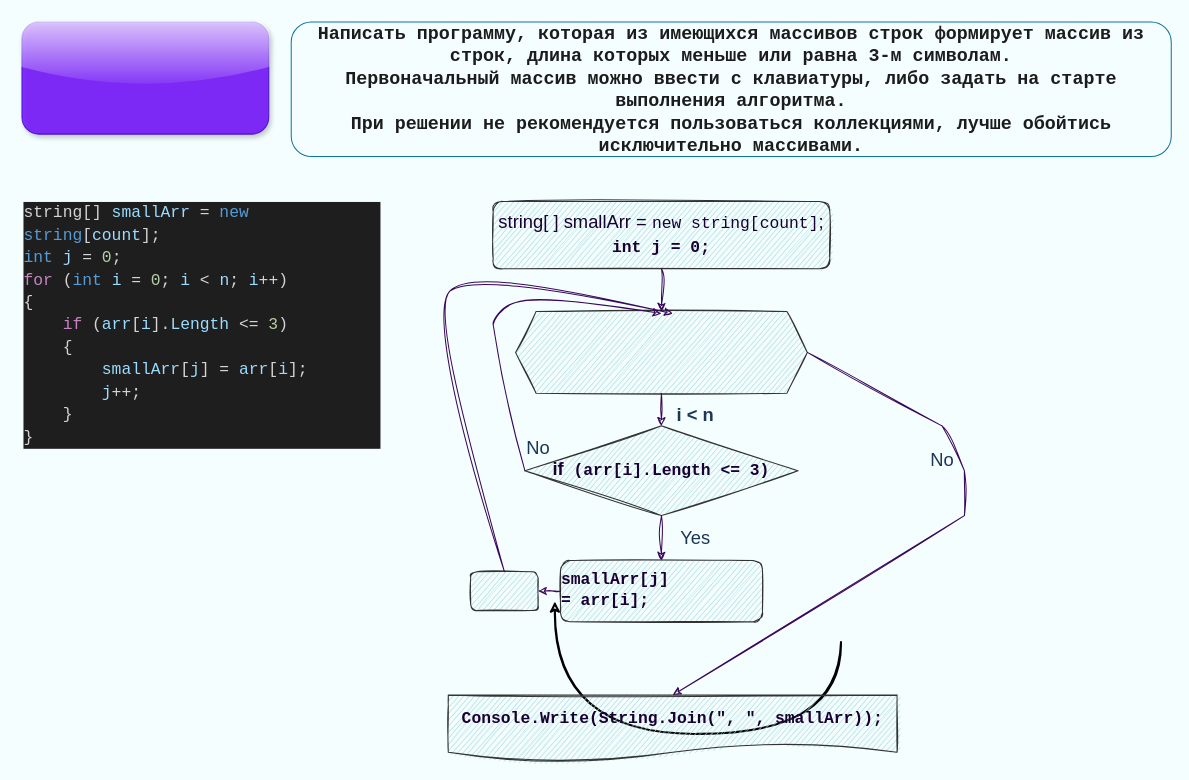
The diagram is 1189 pixels wide and 780 high, and some of its shapes have lost their labels. The shapes that lost their labels are listed below. From the top down, each one's centre as x and y in pixels, then its label:
At (x=146, y=79): "Итоги блока. Выбор специализации".
At (x=661, y=352): "for (int i = 0; i < n; i++)".
At (x=504, y=590): "j++;".
